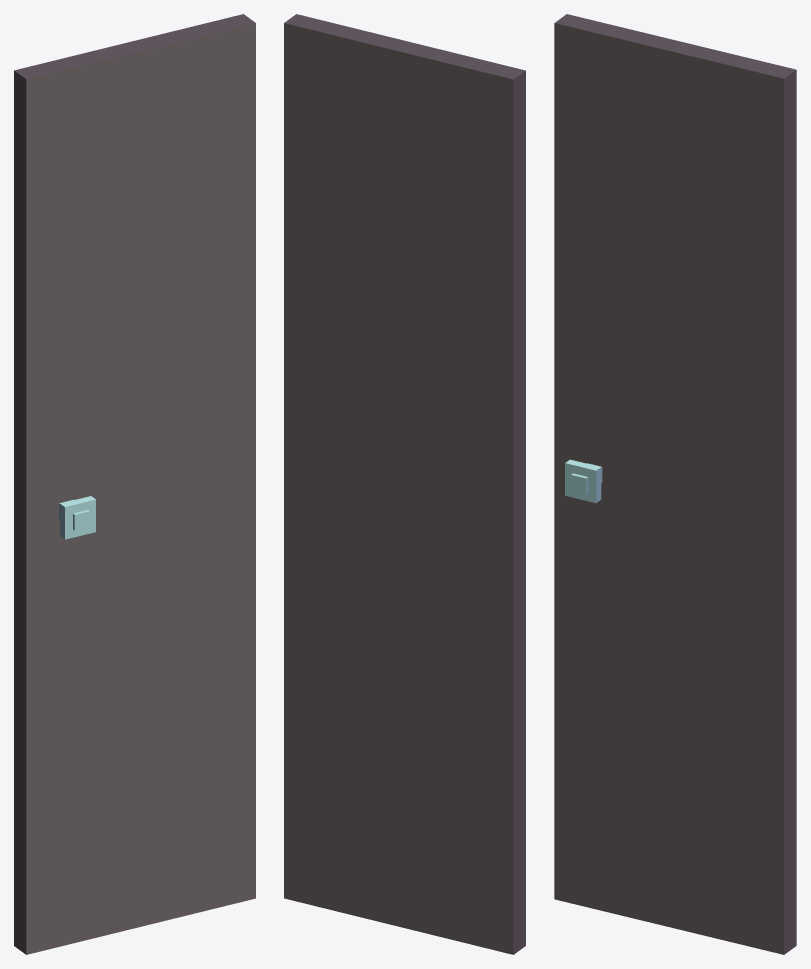
File: Door.fbx
3 views of the same model, side by side, from view 1: azimuth 30°, elevation 25°; view 2: azimuth 150°, elevation 25°; view 3: azimuth 330°, elevation 25° (orthographic).
Visible parts, largest first — view 1: Door; view 2: Door; view 3: Door.
Part boxes in pixels (box(x1,y1,x2,y2)): Door: box(14, 14, 255, 954); Door: box(284, 14, 525, 954); Door: box(554, 14, 796, 954).
Bounding box in the file's own units: 98.98 × 361 × 21.12.
